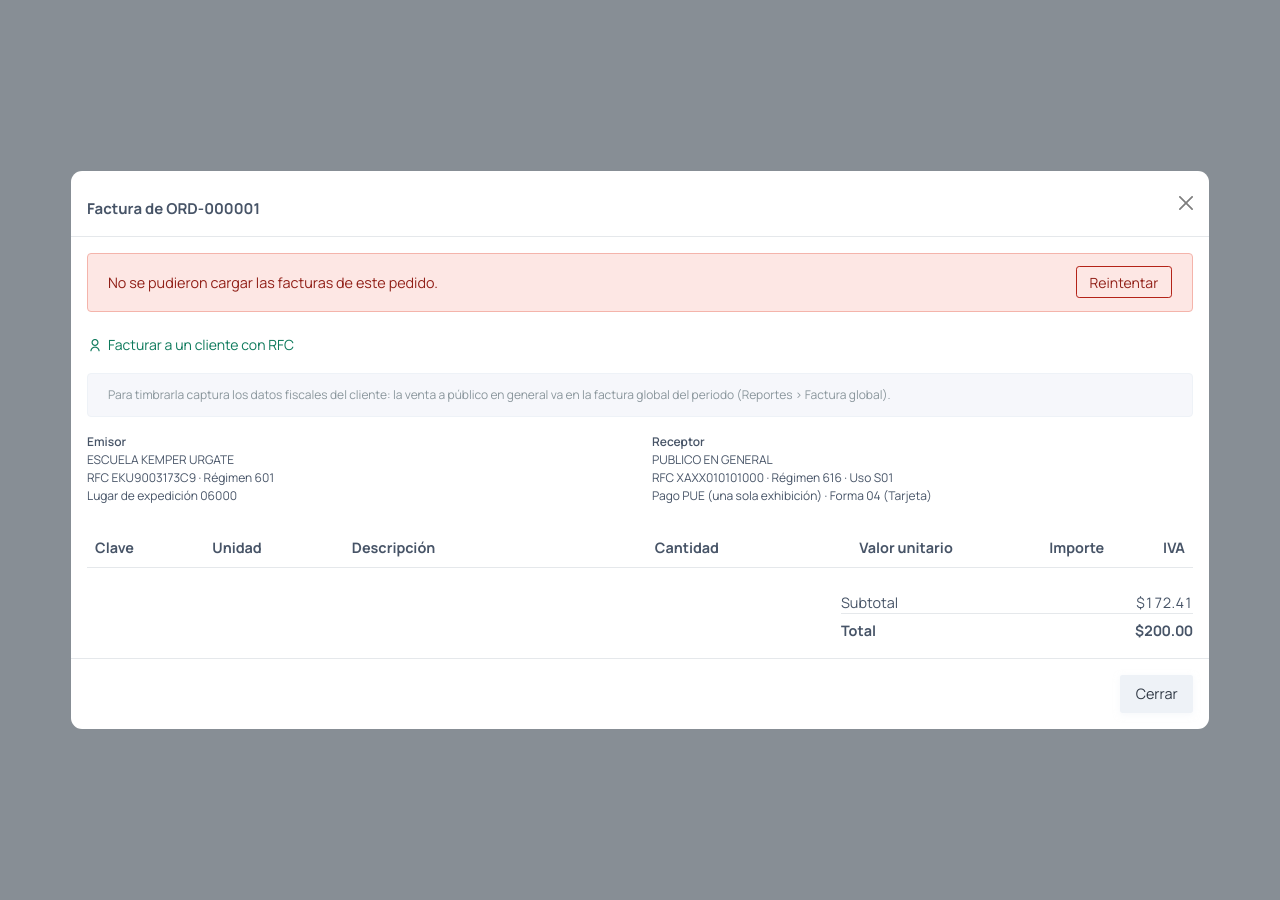
it: CfdiDraftModal › says it could not read the order's invoices, never that invoicing is not available, and reads them again
This screenshot has width=1280, height=900.
expect the message shows "No se pudieron cargar las facturas de este pedido.": met, box left=108, top=272, right=438, bottom=292
expect the heading "Factura de ORD-000001" is shown: met, box left=87, top=197, right=260, bottom=220
Click the button "Reintentar" at [1124, 282], box left=1076, top=266, right=1172, bottom=298
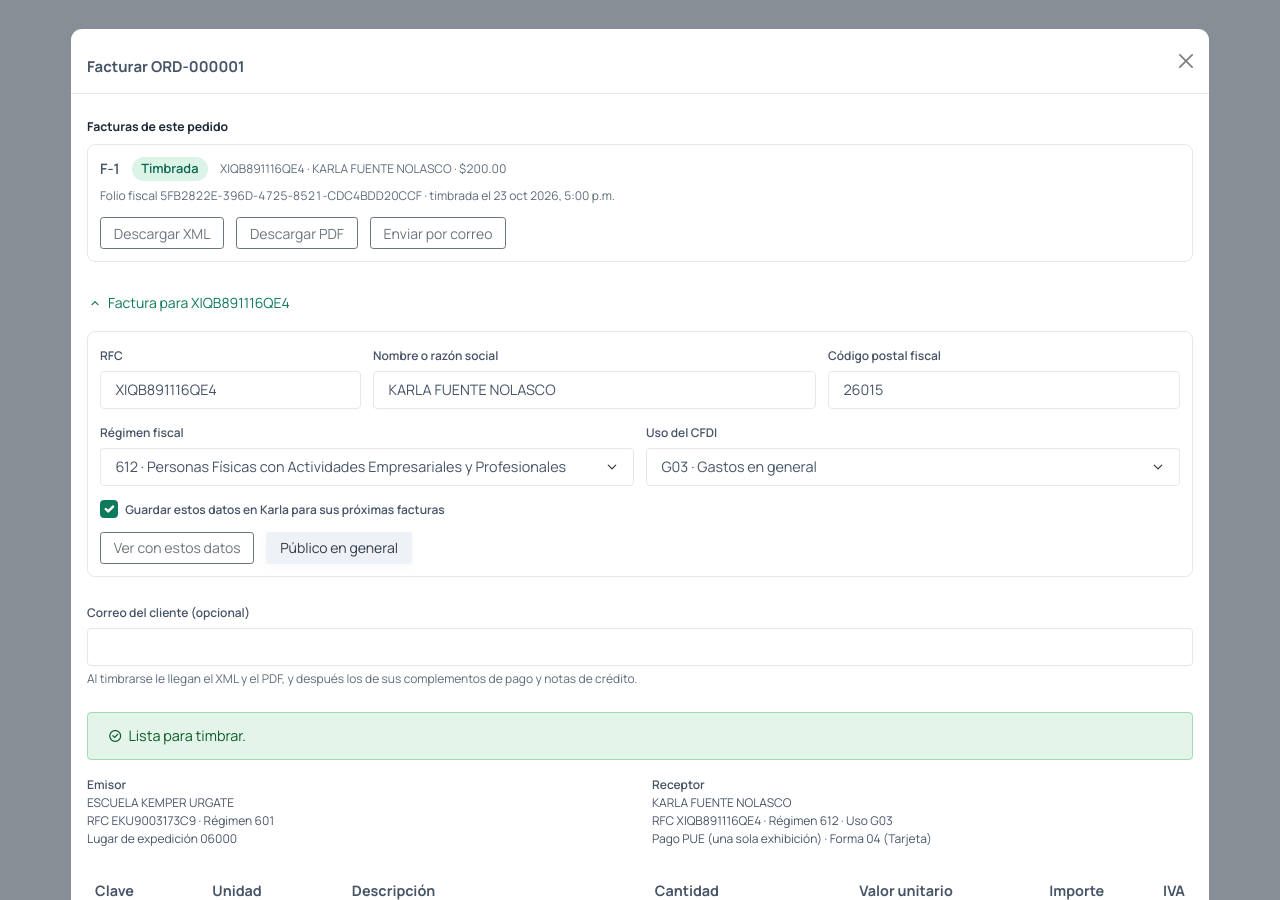
expect the heading "Facturar ORD-000001" is shown: met, box left=87, top=55, right=245, bottom=78
expect the button with aria-label "Descargar XML de la factura F-1" is shown: met, box left=100, top=217, right=224, bottom=249
expect the field labelled "RFC" holds "XIQB891116QE4": met, box left=100, top=371, right=361, bottom=409
